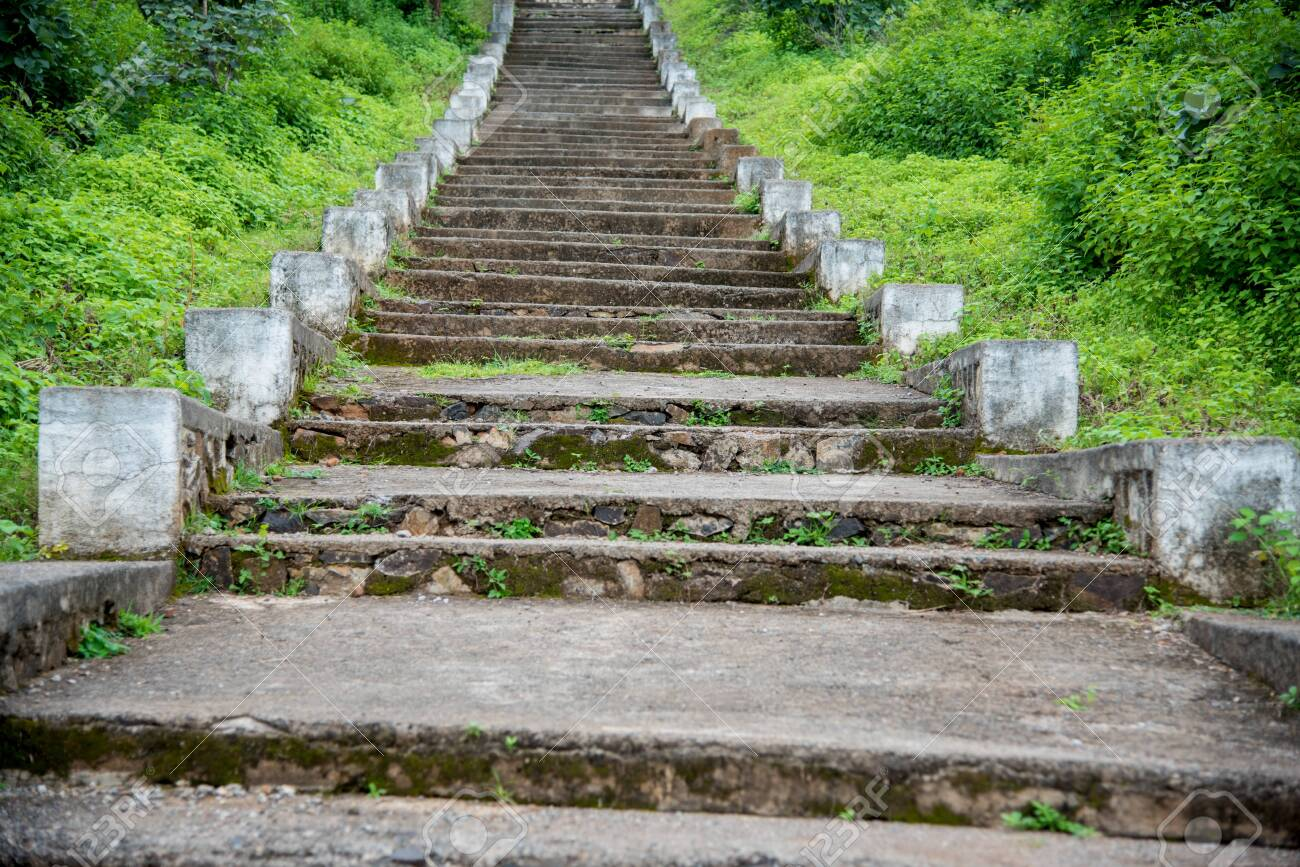upstairs: (357, 367, 882, 867)
